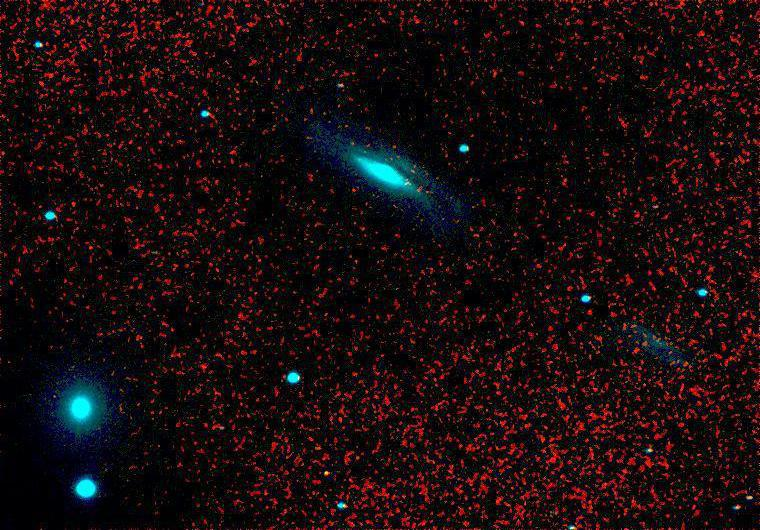star: (305, 463, 335, 493)
